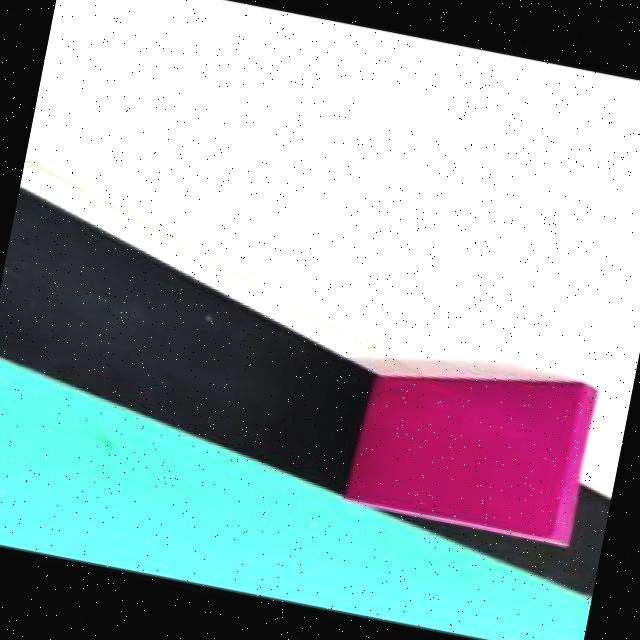xparking: (354, 346, 588, 538)
